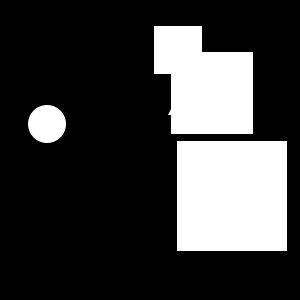circle: (177, 141, 287, 251), (171, 52, 253, 134), (154, 26, 202, 74)
rectangle: (28, 105, 66, 143)
triangle: (168, 85, 198, 115)
